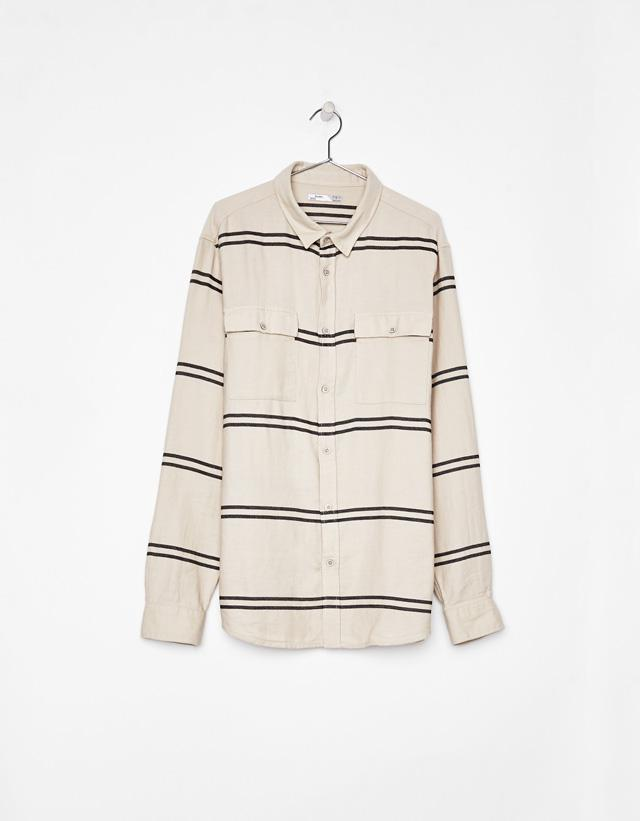teeshirt: (137, 157, 513, 675)
